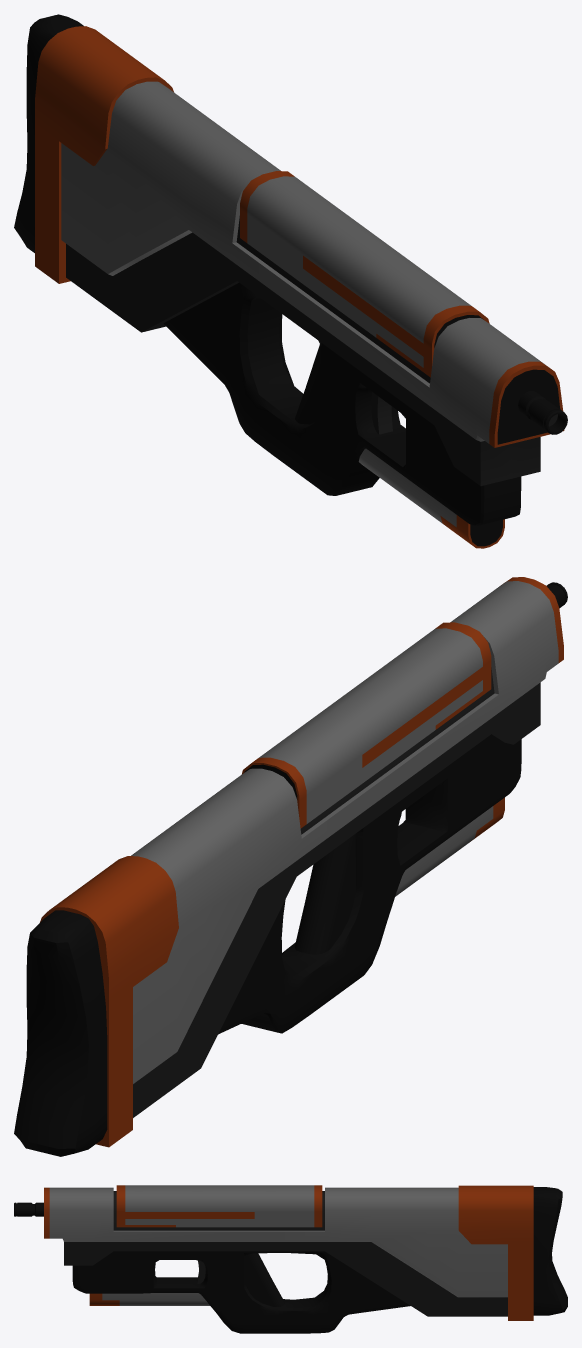
3 views of the same model, one above another, from view 1: azimuth 30°, elevation 25°; view 2: azimuth 150°, elevation 25°; view 3: azimuth 270°, elevation 25° (orthographic). The views are drawn at different scales.
Parts seen in each view (by area): view 1: AR_6; view 2: AR_6; view 3: AR_6.
Part boxes in pixels (left/top/right/bottom): AR_6: left=14, top=14, right=567, bottom=548; AR_6: left=14, top=577, right=567, bottom=1156; AR_6: left=14, top=1185, right=567, bottom=1333.
Size of the model in its own units: 0.1456 by 0.4944 by 1.76.
